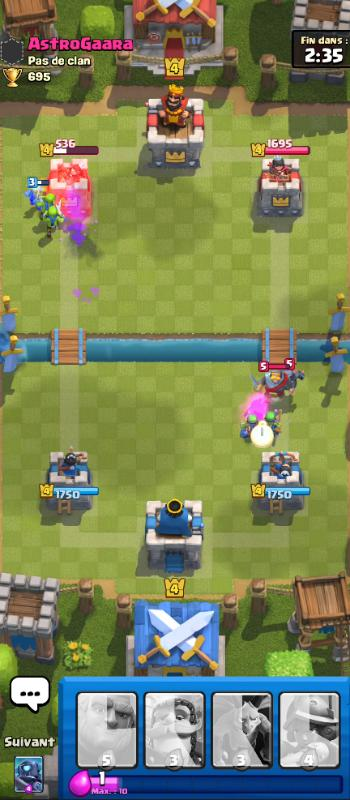chevalier: (249, 369, 296, 402)
gobelin: (43, 205, 66, 239), (37, 190, 55, 216)
gobelin_lances: (261, 411, 284, 438), (238, 412, 260, 440)
mini_PEKKA: (284, 367, 306, 390)
